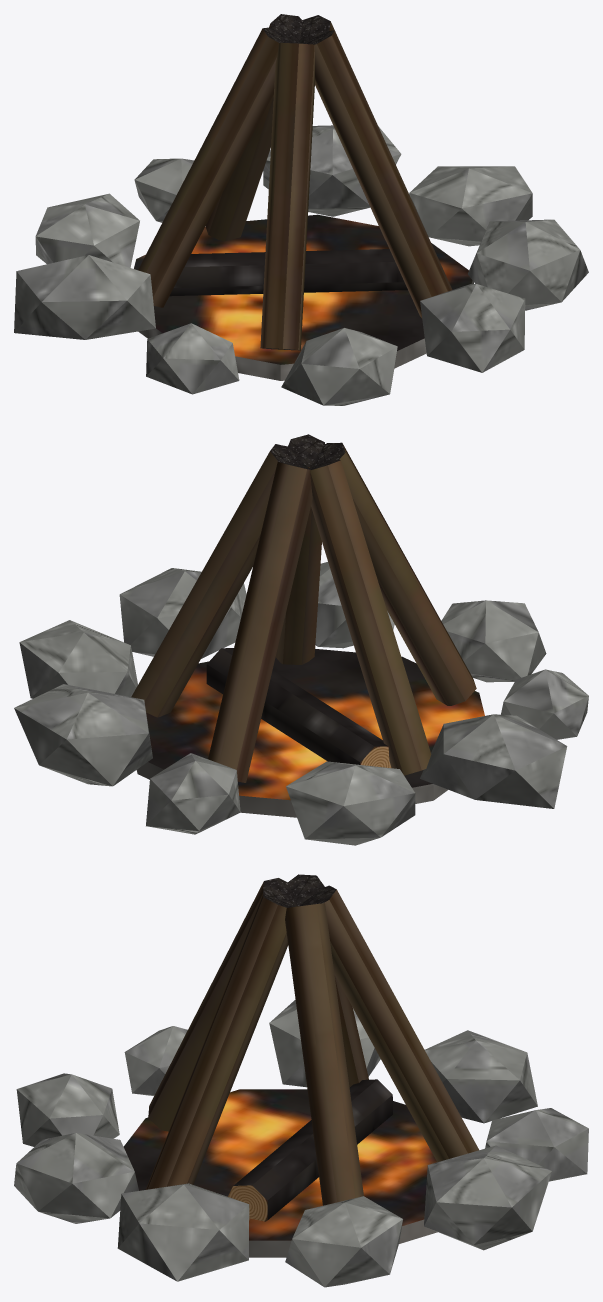
File: campfire.glb
3 renders of one model, top to bottom at view 1: azimuth 30°, elevation 25°; view 2: azimuth 150°, elevation 25°; view 3: azimuth 270°, elevation 25°, orthographic. The views are drawn at different scales.
Parts seen in each view (by area): view 1: campfire; view 2: campfire; view 3: campfire.
Part boxes in pixels (<box>): campfire: <box>14,14,588,405</box>; campfire: <box>14,434,588,845</box>; campfire: <box>14,874,588,1287</box>.
Size of the model in its own units: 0.9815 by 0.529 by 0.9178.
1 material, 1 textured.
